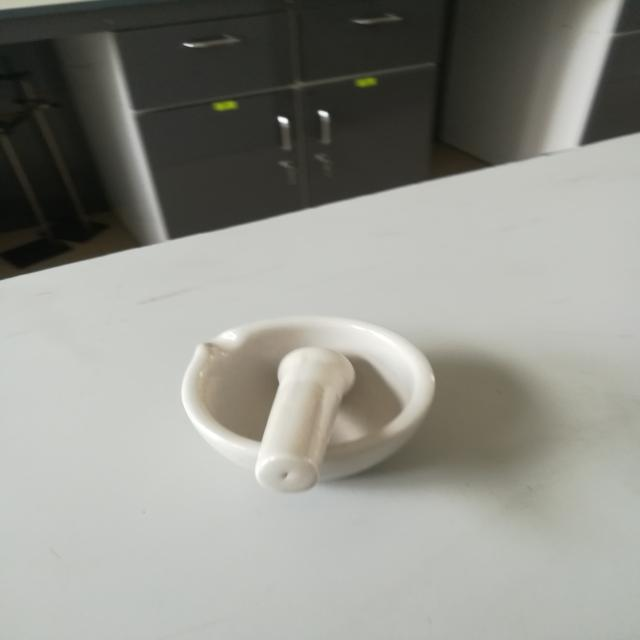Porcelain_Mortar Pestle: (145, 274, 495, 544)
